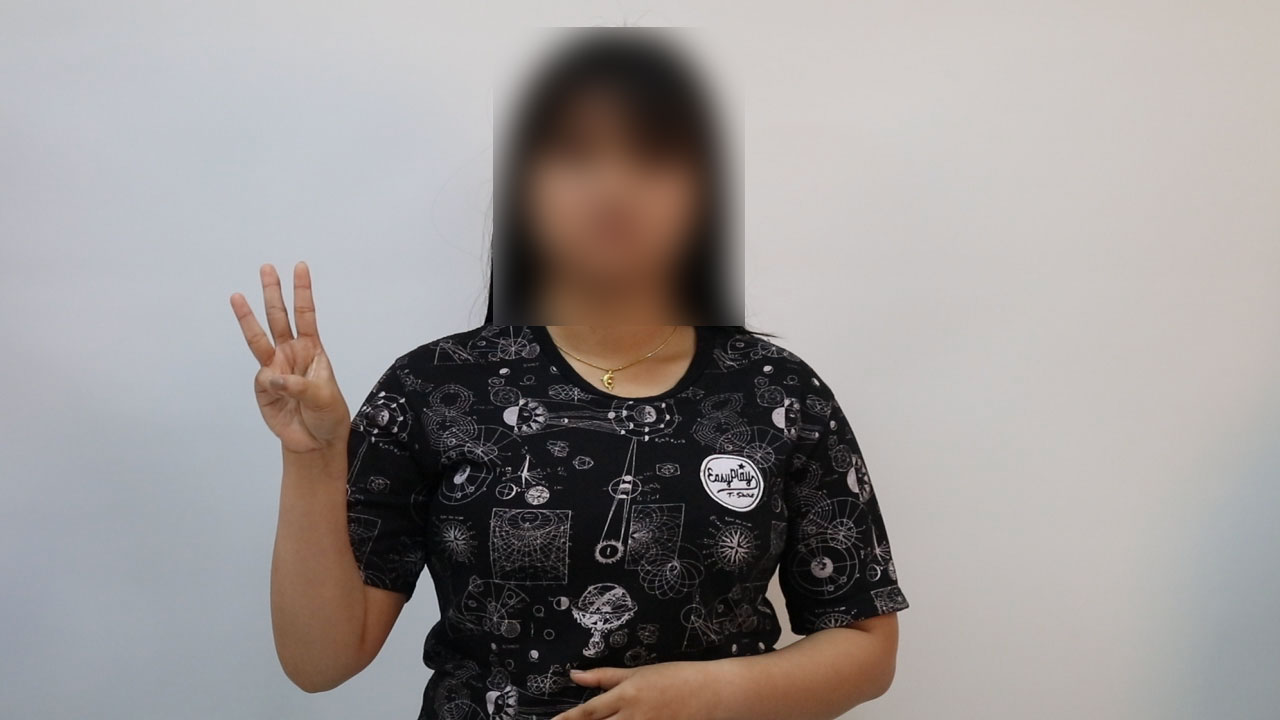wor: (221, 253, 358, 464)
